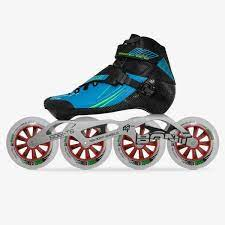roller_blade: (8, 34, 220, 171)
